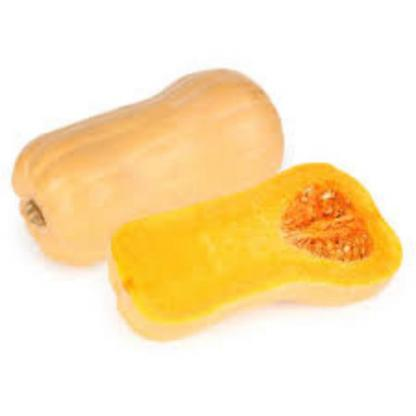pumpkin: (8, 64, 292, 270), (106, 158, 404, 337)
